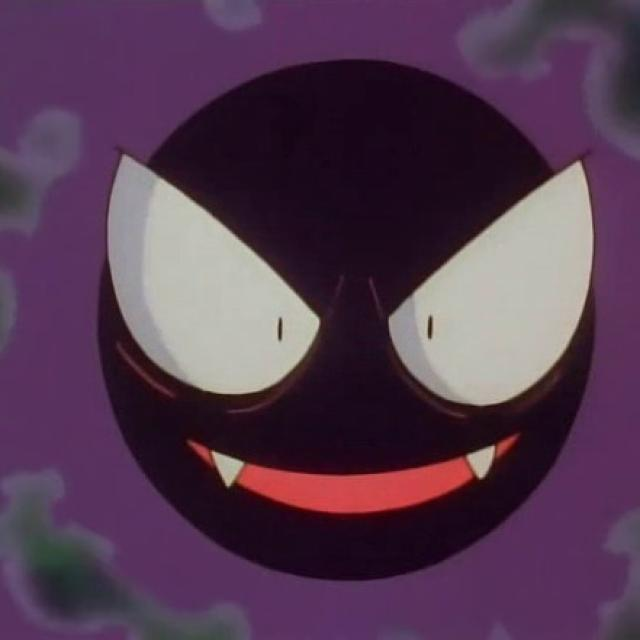Gastly: (121, 63, 590, 588)
